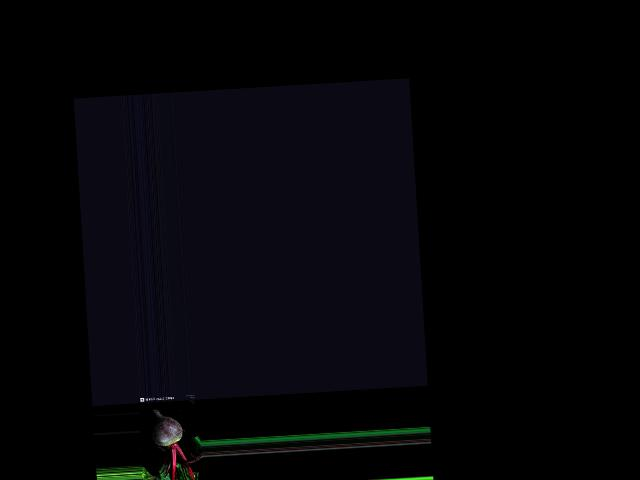beet: (138, 406, 204, 480)
